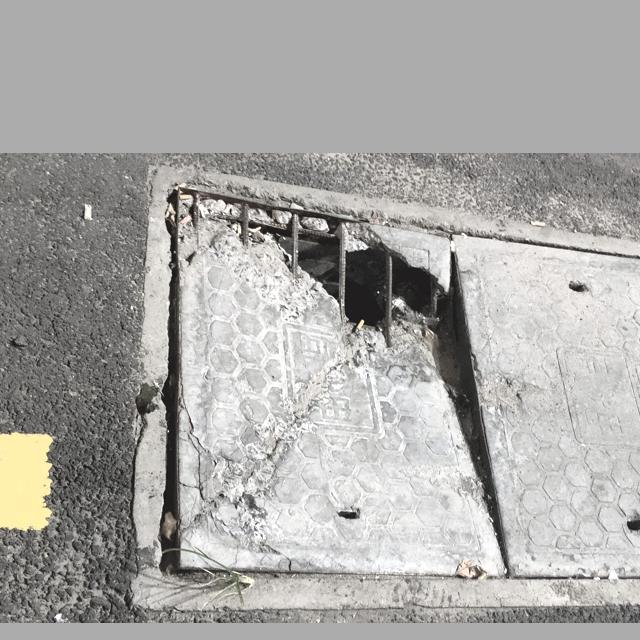broke: (129, 165, 640, 610)
